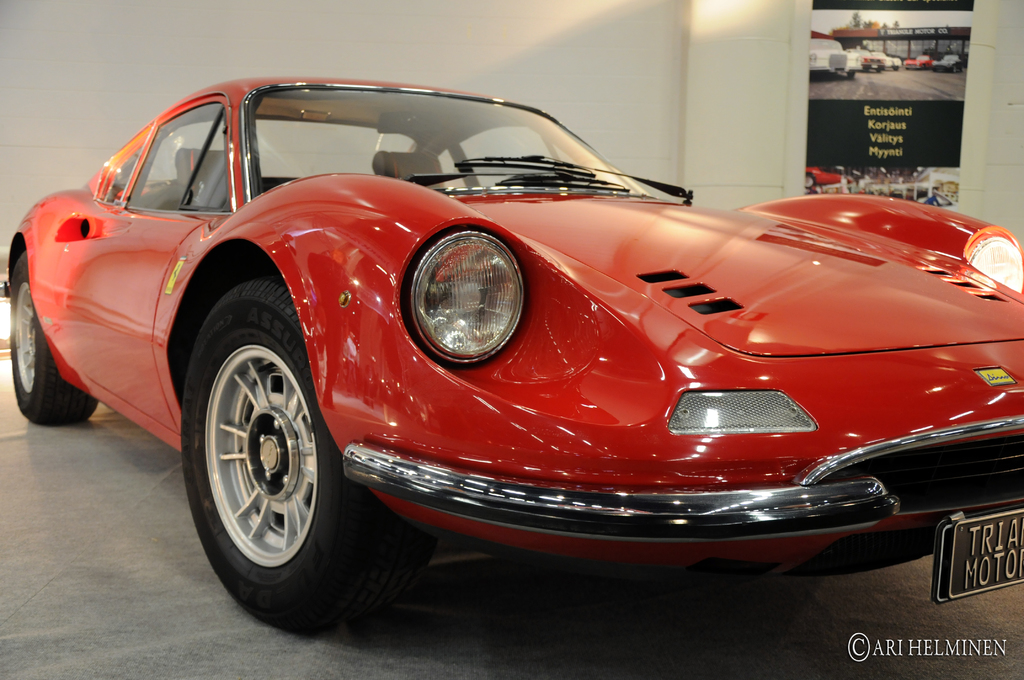Car: (0, 77, 1023, 629)
